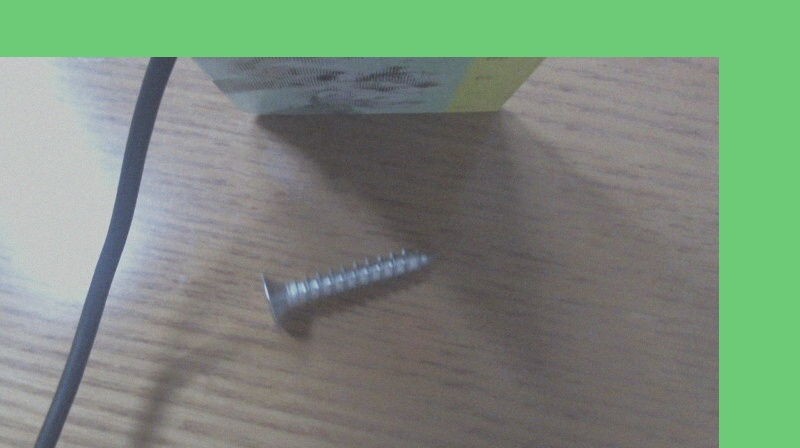S001: (255, 241, 444, 329)
